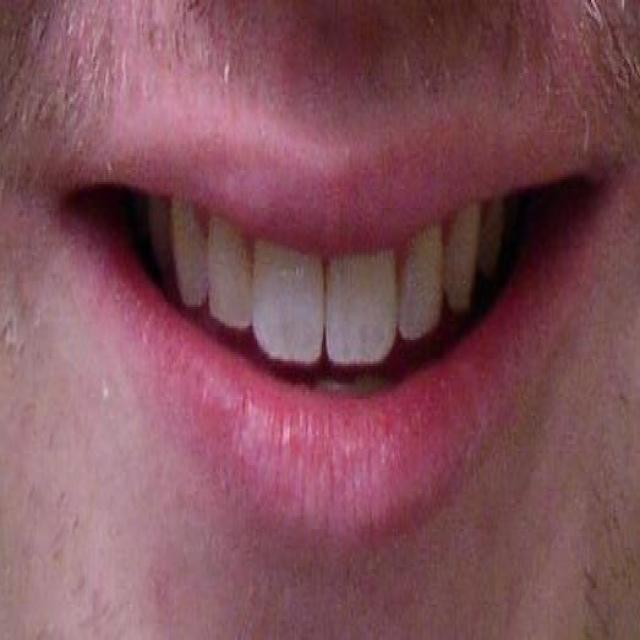tooth: (262, 248, 316, 375), (338, 222, 387, 361), (397, 217, 438, 347), (213, 220, 242, 333), (174, 210, 208, 291), (443, 208, 474, 293)
